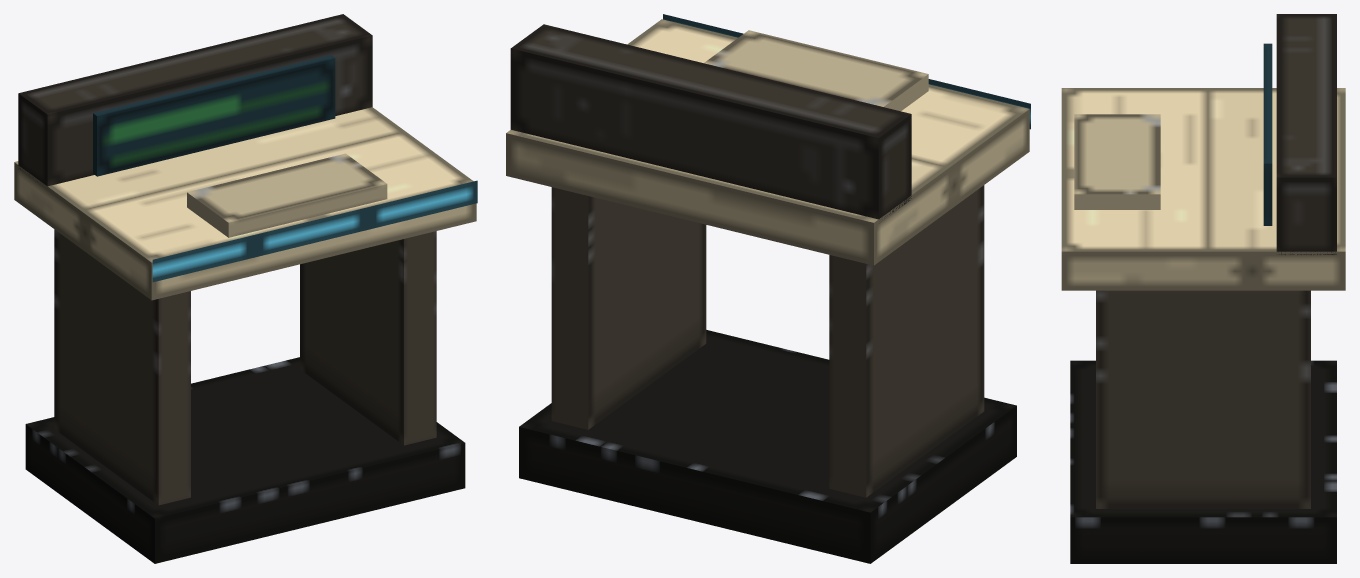
File: Terminal.obj
3 views of the same model, side by side, from view 1: azimuth 30°, elevation 25°; view 2: azimuth 150°, elevation 25°; view 3: azimuth 270°, elevation 25° (orthographic). The views are drawn at different scales.
Visible parts, largest first — view 1: Terminal; view 2: Terminal; view 3: Terminal.
Boxes of the visible parts, x1,y1,x2,y2 form: Terminal: (14,14,477,563); Terminal: (506,14,1030,563); Terminal: (1061,14,1345,563).
Bounding box in the file's own units: 0.9 × 1 × 0.665.
1 material, 1 textured.
